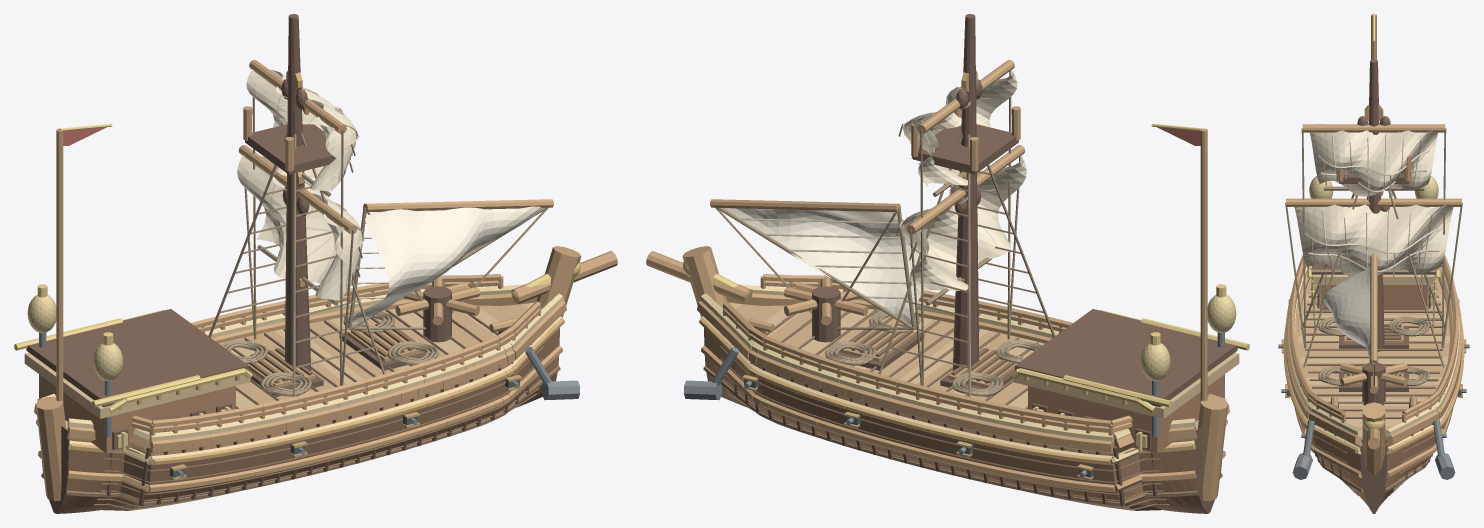
File: cog-v5.glb
3 views of the same model, side by side, from view 1: azimuth 30°, elevation 25°; view 2: azimuth 150°, elevation 25°; view 3: azimuth 270°, elevation 25° (orthographic). The views are drawn at different scales.
Parts seen in each view (by area): view 1: cog_hull_wood, cog_deck_darkwood, cog_sails_sail, cog_sails_sailbright, cog_hull_hull, cog_railings_wood, cog_masts_darkwood, cog_hull_pale, cog_hull_seam, cog_hull_deck, cog_hull_hull2, cog_rigging_wood (+17 smaller); view 2: cog_hull_wood, cog_deck_darkwood, cog_sails_sailbright, cog_hull_hull, cog_sails_sail, cog_railings_wood, cog_masts_darkwood, cog_hull_seam, cog_hull_pale, cog_hull_deck, cog_rigging_rope, cog_hull_hull2 (+18 smaller); view 3: cog_sails_sail, cog_hull_wood, cog_hull_deck, cog_hull_seam, cog_rigging_wood, cog_railings_wood, cog_hull_decklight, cog_sails_sailbright, cog_rigging_rope, cog_hull_pale, cog_rigging_sailshade, cog_masts_darkwood (+17 smaller).
Part boxes in pixels (left/top/right/bottom): cog_hull_wood: left=34, top=246, right=617, bottom=501; cog_deck_darkwood: left=26, top=309, right=248, bottom=449; cog_sails_sail: left=237, top=69, right=362, bottom=300; cog_sails_sailbright: left=352, top=206, right=544, bottom=324; cog_hull_hull: left=61, top=328, right=559, bottom=510; cog_railings_wood: left=131, top=274, right=541, bottom=445; cog_masts_darkwood: left=245, top=14, right=350, bottom=370; cog_hull_pale: left=37, top=283, right=563, bottom=464; cog_hull_seam: left=41, top=309, right=560, bottom=510; cog_hull_deck: left=65, top=304, right=527, bottom=425; cog_hull_hull2: left=66, top=355, right=559, bottom=502; cog_rigging_wood: left=238, top=60, right=553, bottom=234; cog_hull_wood: left=646, top=246, right=1229, bottom=501; cog_deck_darkwood: left=1015, top=309, right=1237, bottom=449; cog_sails_sailbright: left=724, top=208, right=921, bottom=324; cog_hull_hull: left=704, top=328, right=1202, bottom=510; cog_sails_sail: left=901, top=70, right=1026, bottom=296; cog_railings_wood: left=722, top=274, right=1132, bottom=445; cog_masts_darkwood: left=913, top=14, right=1018, bottom=370; cog_hull_seam: left=703, top=309, right=1222, bottom=510; cog_hull_pale: left=700, top=283, right=1226, bottom=464; cog_hull_deck: left=736, top=304, right=1198, bottom=425; cog_rigging_rope: left=715, top=70, right=1021, bottom=398; cog_hull_hull2: left=704, top=355, right=1197, bottom=502; cog_sails_sail: left=1294, top=124, right=1453, bottom=277; cog_hull_wood: left=1285, top=273, right=1462, bottom=477; cog_hull_deck: left=1298, top=280, right=1449, bottom=430; cog_hull_seam: left=1299, top=288, right=1448, bottom=495; cog_rigging_wood: left=1286, top=124, right=1461, bottom=365; cog_railings_wood: left=1289, top=254, right=1458, bottom=422; cog_hull_decklight: left=1298, top=278, right=1449, bottom=426; cog_sails_sailbright: left=1324, top=267, right=1370, bottom=358; cog_rigging_rope: left=1285, top=128, right=1462, bottom=385; cog_hull_pale: left=1288, top=266, right=1459, bottom=454; cog_rigging_sailshade: left=1305, top=134, right=1442, bottom=273; cog_masts_darkwood: left=1339, top=59, right=1408, bottom=351.
Bounding box in the file's own units: 33.45 × 24.84 × 11.99.
